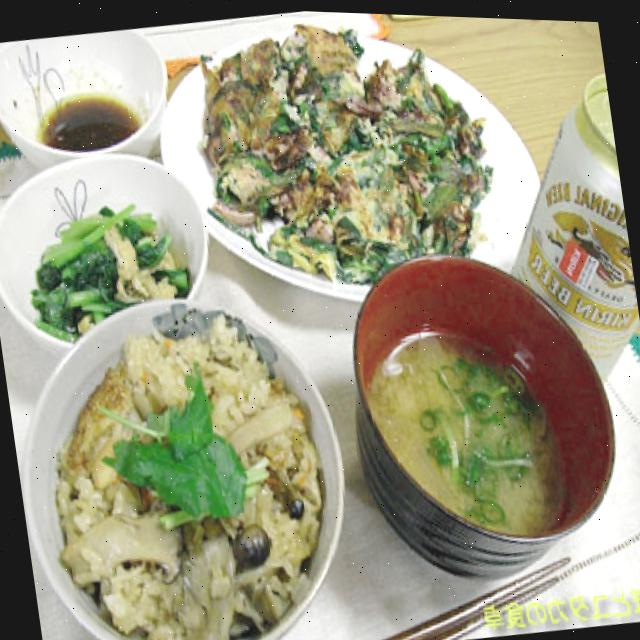米饭主食: (39, 303, 326, 640)
